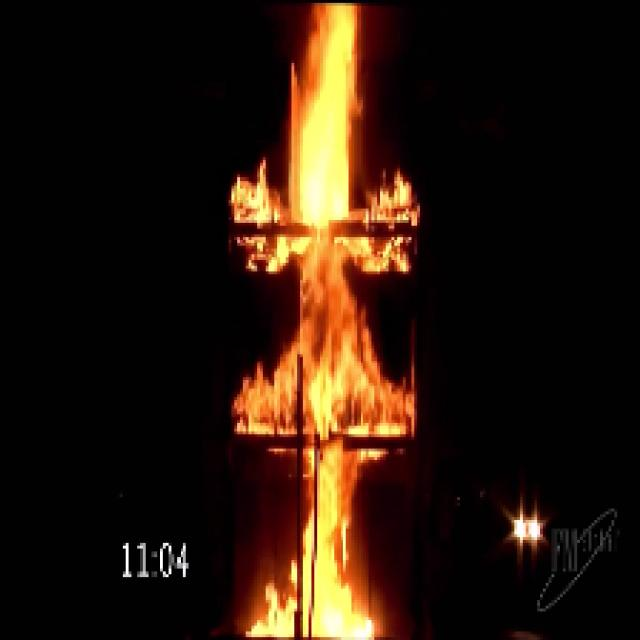fire: (272, 6, 376, 638)
